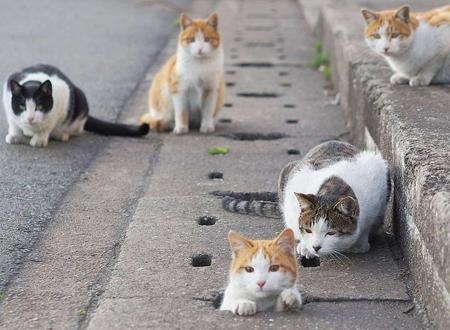cat: (211, 140, 391, 260), (3, 63, 150, 147), (138, 11, 225, 135), (359, 5, 450, 87), (220, 228, 303, 317)
